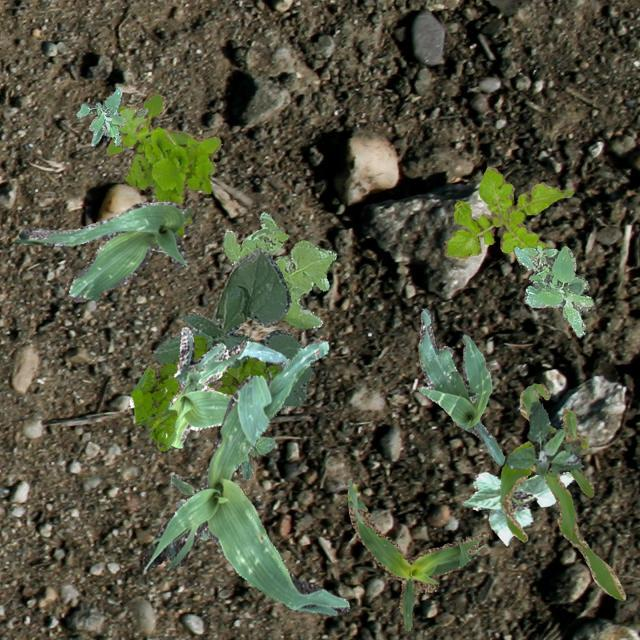crop: (142, 338, 348, 614), (498, 382, 624, 600), (152, 246, 312, 409), (344, 478, 488, 630), (128, 326, 290, 446), (12, 200, 190, 302), (416, 308, 504, 464), (462, 470, 574, 544)
weed: (222, 210, 336, 326), (443, 165, 572, 258), (118, 106, 210, 235), (106, 92, 222, 174), (512, 245, 592, 336), (157, 336, 280, 394), (506, 401, 582, 476), (130, 364, 178, 449), (76, 86, 124, 146), (170, 474, 208, 538), (240, 436, 274, 478), (122, 108, 148, 150)
